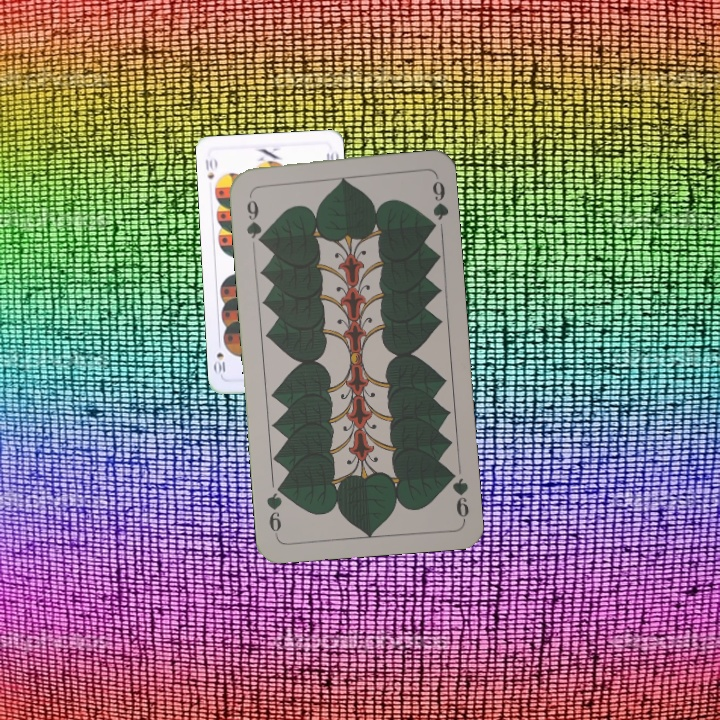G9: (443, 465, 472, 523), (242, 189, 267, 247)
S10: (202, 153, 219, 182)
